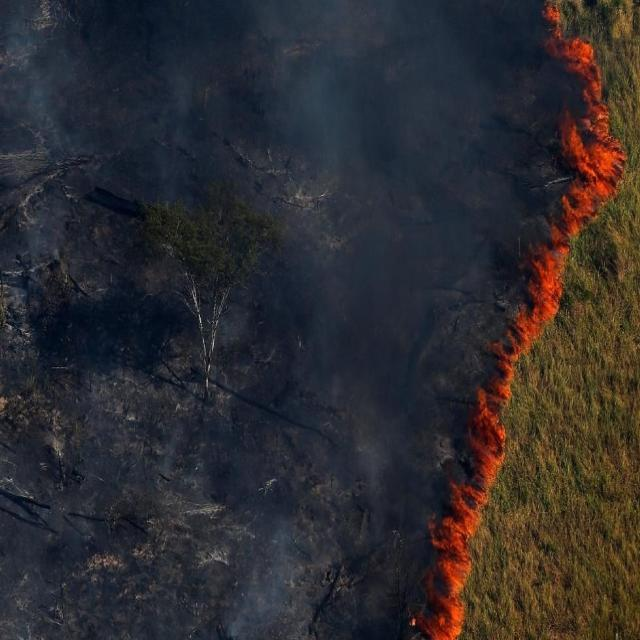Fire: (414, 1, 627, 640)
Smoke: (0, 13, 410, 639)
